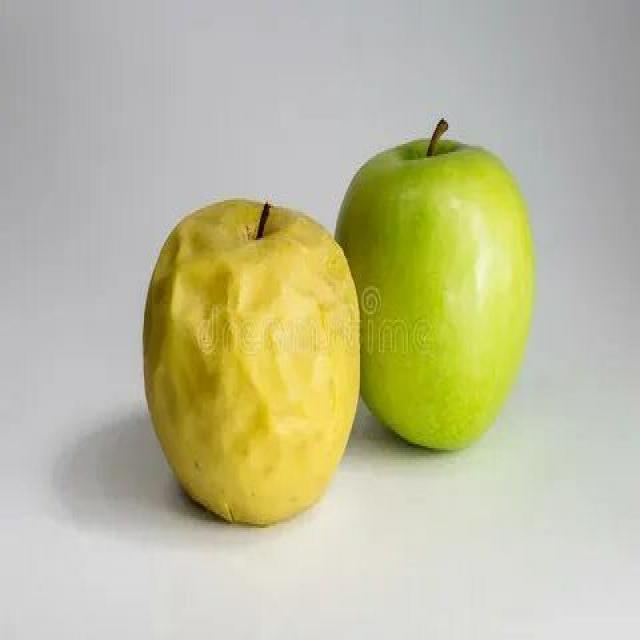Fresh Apple: (332, 155, 525, 460)
Rotten: (147, 208, 348, 518)
